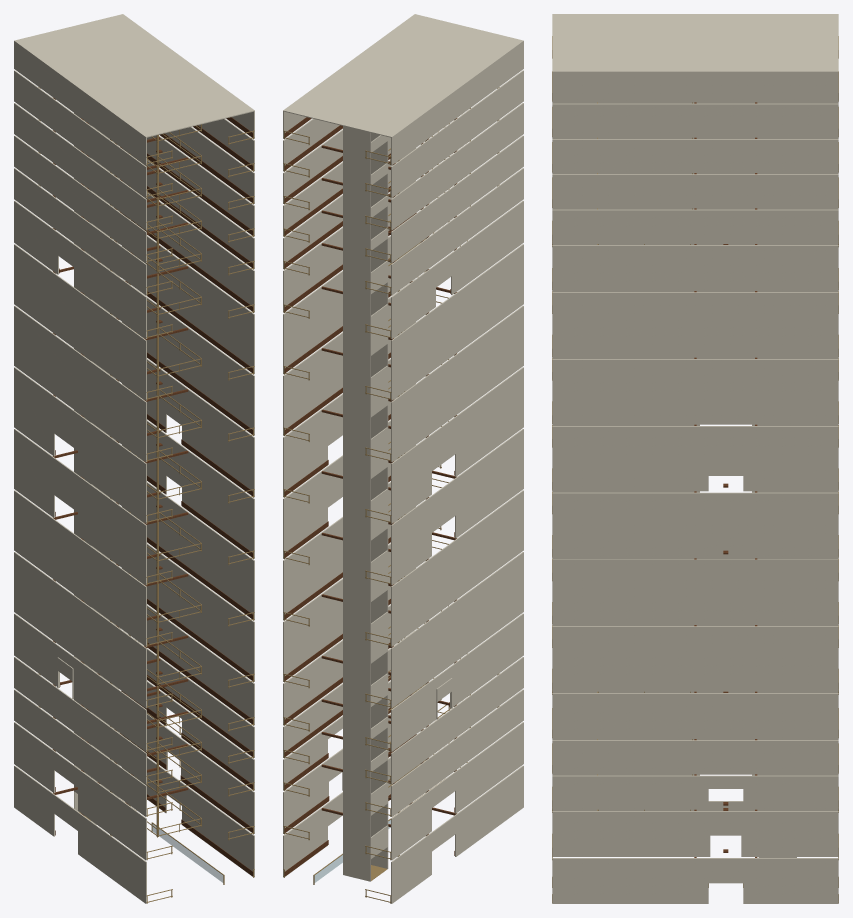
Rendered from ForwardGroundEnclosure.glb.
3 views of the same model, side by side, from view 1: azimuth 30°, elevation 25°; view 2: azimuth 150°, elevation 25°; view 3: azimuth 270°, elevation 25° (orthographic). The views are drawn at different scales.
Parts seen in each view (by area): view 1: CORE_TopCover, CORE_OuterWall_06_-1, CORE_OuterWall_10_-1, CORE_OuterWall_09_-1, CORE_OuterWall_05_-1, CORE_OuterWall_09_1, CORE_OuterWall_06_1, CORE_OuterWall_05_1, CORE_OuterWall_10_1, CORE_OuterWall_07_1, CORE_OuterWall_08_1, CORE_OuterWall_11_-1 (+45 smaller); view 2: CORE_ShaftNorth, CORE_TopCover, CORE_OuterWall_06_-1, CORE_OuterWall_10_-1, CORE_OuterWall_09_-1, CORE_OuterWall_05_-1, CORE_ShaftSouth, CORE_OuterWall_11_-1, CORE_OuterWall_12_-1, CORE_OuterWall_03_-1, CORE_OuterWall_15_-1, CORE_OuterWall_02_-1 (+37 smaller); view 3: CORE_OuterWall_05_1, CORE_OuterWall_06_1, CORE_OuterWall_09_1, CORE_OuterWall_10_1, CORE_OuterWall_07_1, CORE_OuterWall_08_1, CORE_TopCover, CORE_OuterWall_04_1, CORE_OuterWall_11_1, CORE_OuterWall_00_1, CORE_OuterWall_03_1, CORE_OuterWall_12_1 (+11 smaller).
Part boxes in pixels (bbox=[...]): CORE_TopCover: bbox=[14, 14, 254, 137]; CORE_OuterWall_06_-1: bbox=[14, 490, 146, 646]; CORE_OuterWall_10_-1: bbox=[14, 244, 146, 400]; CORE_OuterWall_09_-1: bbox=[14, 305, 146, 461]; CORE_OuterWall_05_-1: bbox=[14, 552, 146, 708]; CORE_OuterWall_09_1: bbox=[122, 279, 254, 435]; CORE_OuterWall_06_1: bbox=[122, 482, 254, 620]; CORE_OuterWall_05_1: bbox=[122, 543, 254, 681]; CORE_OuterWall_10_1: bbox=[122, 235, 254, 374]; CORE_OuterWall_07_1: bbox=[122, 420, 254, 558]; CORE_OuterWall_08_1: bbox=[122, 358, 254, 497]; CORE_OuterWall_11_-1: bbox=[14, 200, 146, 338]; CORE_ShaftNorth: bbox=[343, 106, 370, 881]; CORE_TopCover: bbox=[283, 14, 523, 137]; CORE_OuterWall_06_-1: bbox=[391, 490, 523, 646]; CORE_OuterWall_10_-1: bbox=[391, 244, 523, 400]; CORE_OuterWall_09_-1: bbox=[391, 305, 523, 461]; CORE_OuterWall_05_-1: bbox=[391, 552, 523, 708]; CORE_ShaftSouth: bbox=[361, 93, 388, 868]; CORE_OuterWall_11_-1: bbox=[391, 200, 523, 338]; CORE_OuterWall_12_-1: bbox=[391, 168, 523, 295]; CORE_OuterWall_03_-1: bbox=[391, 657, 523, 784]; CORE_OuterWall_15_-1: bbox=[391, 70, 523, 197]; CORE_OuterWall_02_-1: bbox=[391, 689, 523, 816]; CORE_OuterWall_05_1: bbox=[552, 626, 838, 691]; CORE_OuterWall_06_1: bbox=[552, 559, 838, 624]; CORE_OuterWall_09_1: bbox=[552, 359, 838, 424]; CORE_OuterWall_10_1: bbox=[552, 292, 838, 357]; CORE_OuterWall_07_1: bbox=[552, 492, 838, 558]; CORE_OuterWall_08_1: bbox=[552, 426, 838, 491]; CORE_TopCover: bbox=[552, 14, 838, 72]; CORE_OuterWall_04_1: bbox=[552, 693, 838, 738]; CORE_OuterWall_11_1: bbox=[552, 245, 838, 290]; CORE_OuterWall_00_1: bbox=[552, 858, 838, 903]; CORE_OuterWall_03_1: bbox=[552, 740, 838, 774]; CORE_OuterWall_12_1: bbox=[552, 209, 838, 243].
Size of the model in its own units: 15.88 by 106 by 33.08.
5 materials, 3 textured.
